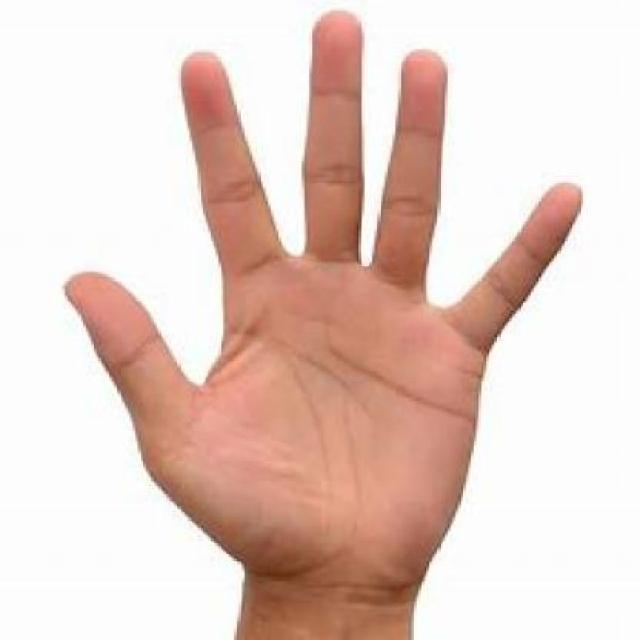no-gloves: (54, 2, 603, 614), (173, 19, 501, 551)
